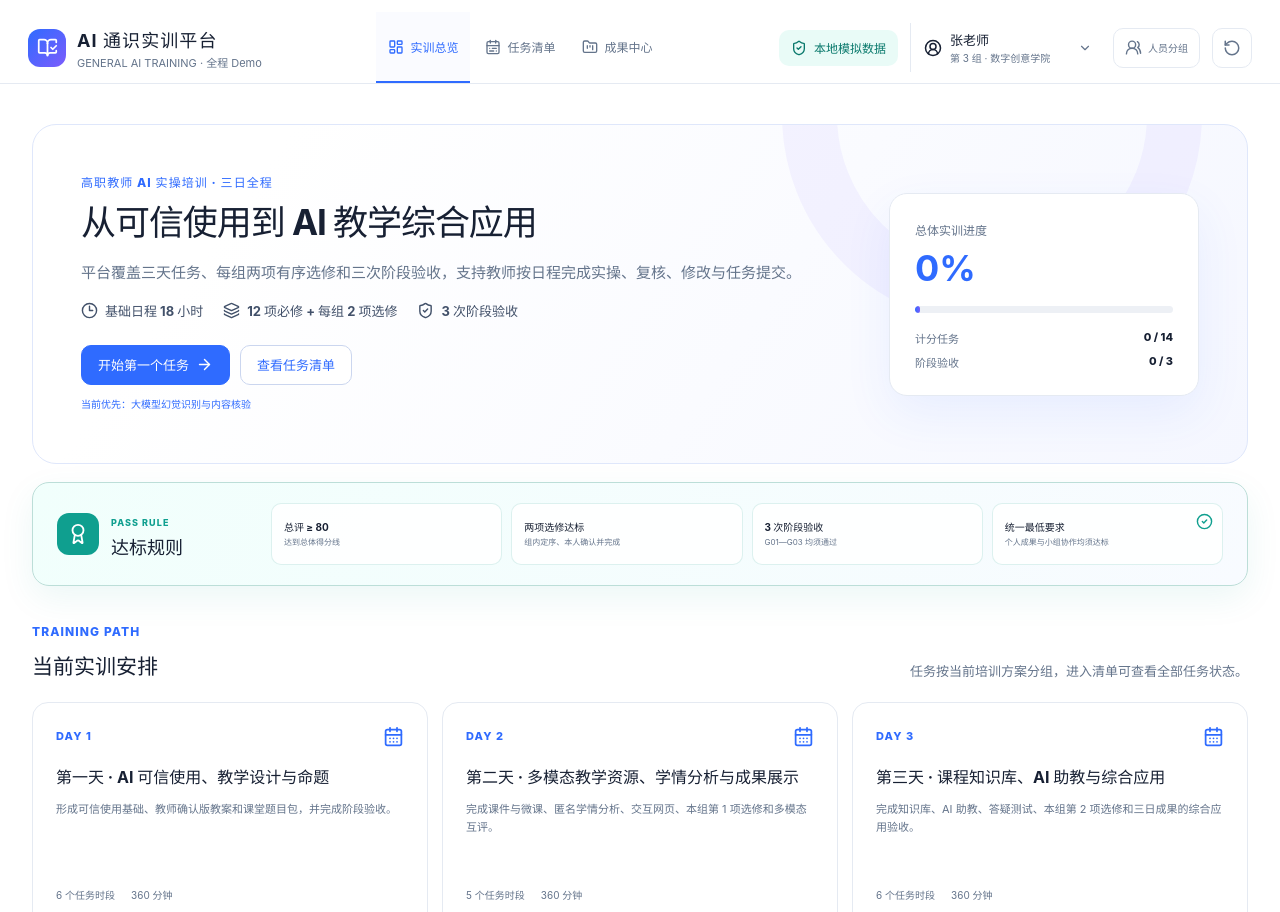
AI 通识实训平台 Demo 关键交互 › 培训人员页面可校验并确认导入基本信息与分组
Check: the button "培训人员" is not shown
What coordinates should you click on to do the following:
click the button with aria-label "查看教师与小组信息"
I would click on:
 (1006, 48)
Its box is [911,23,1101,72].
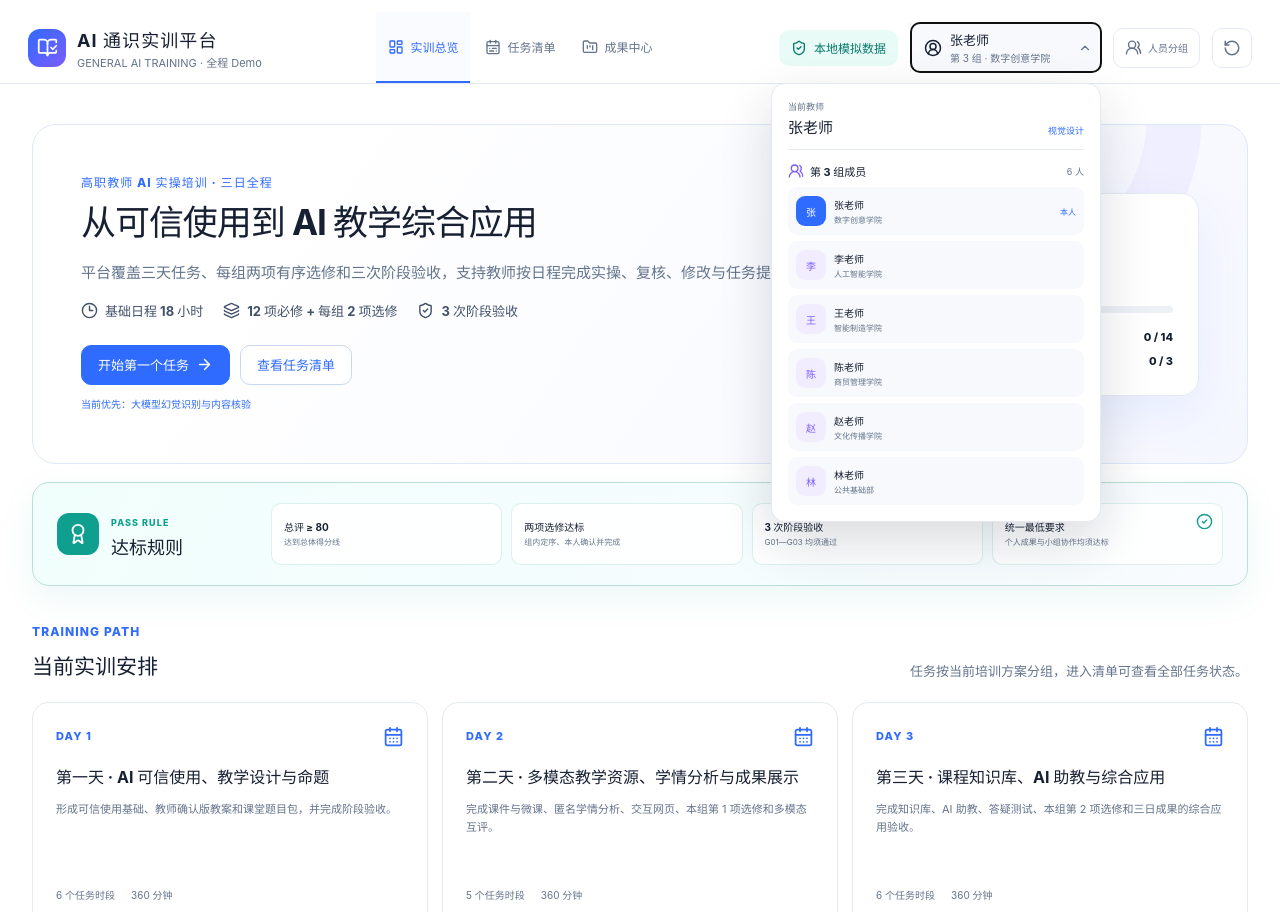
Check: the text "第 3 组成员" is shown, box [810,163,866,179]
Check: the text "6 人" is shown, box [1067,164,1084,178]
What coordinates should you click on to do the following:
click the button with aria-label "查看教师与小组信息"
I would click on:
 (1006, 48)
Its box is [911,23,1101,72].
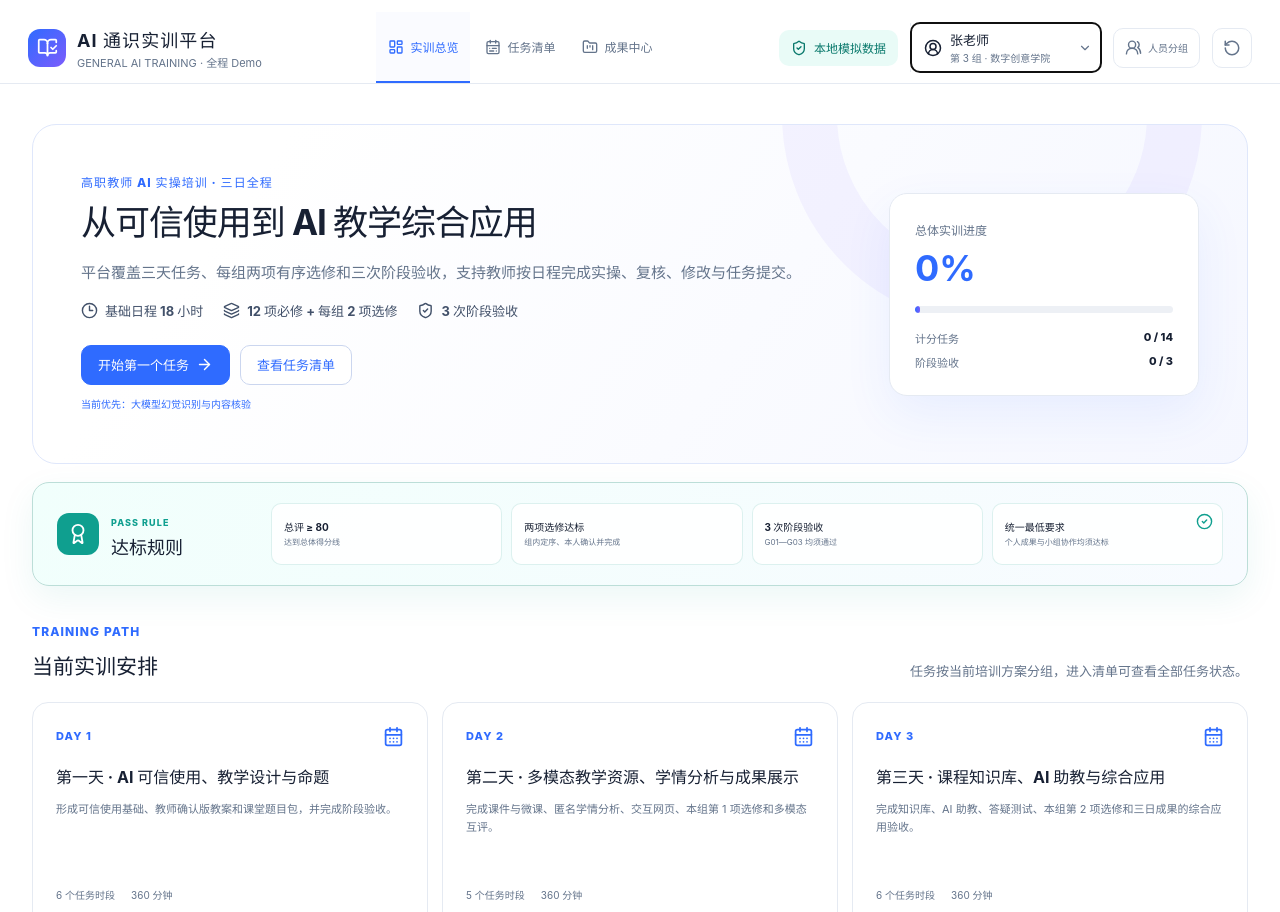
What coordinates should you click on to do the following:
click the button with aria-label "培训人员与分组"
I would click on:
 (1156, 48)
Its box is [1113,28,1200,68].
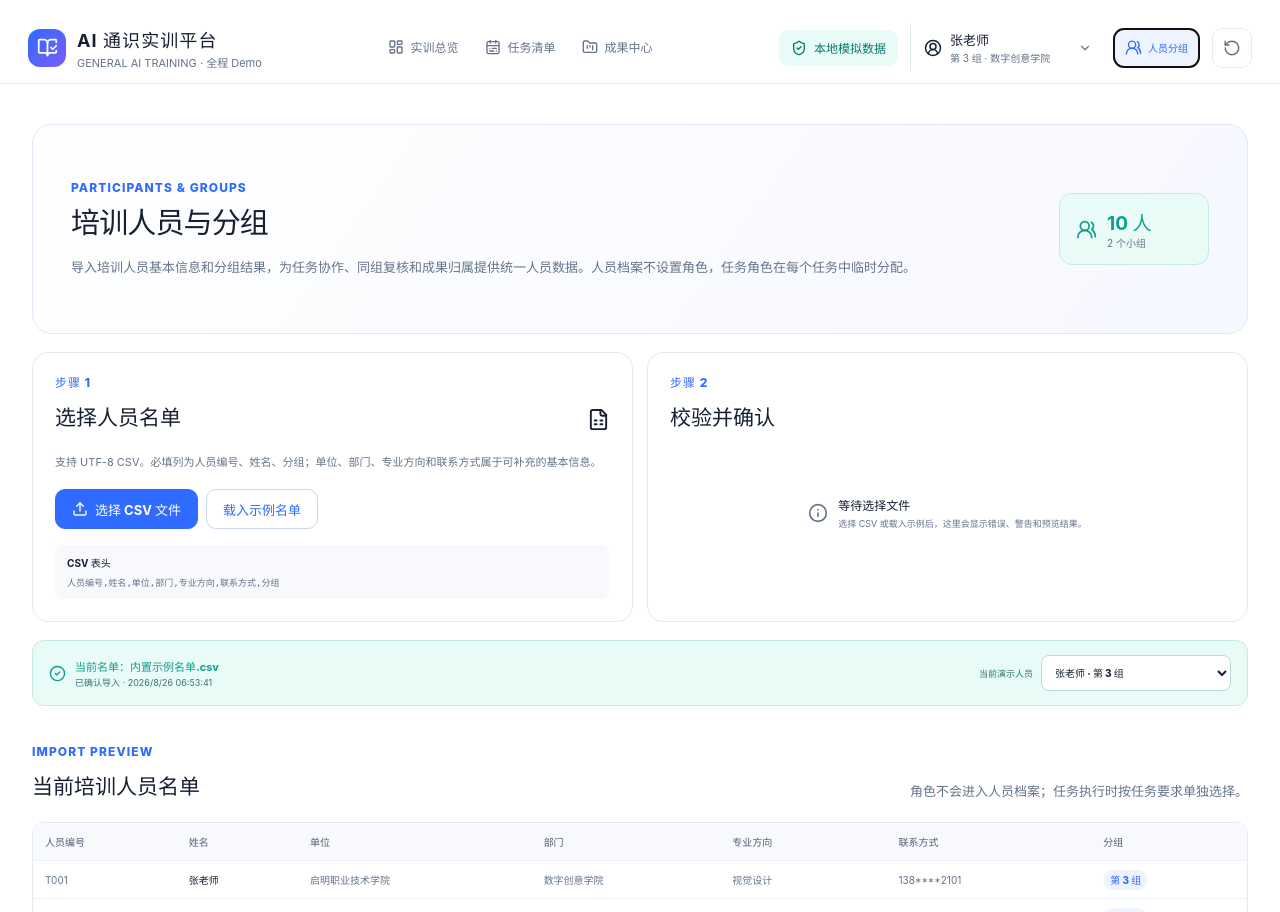
Check: the heading "培训人员与分组" is shown, box [71,205,268,240]
Check: the text "当前名单：内置示例名单.csv" is shown, box [75,658,219,674]
Check: the dropdown labelled "当前演示人员" shows "张老师 · 第 3 组", box [1041,656,1231,692]
What coordinates should you click on to do the following:
click the button "载入示例名单"
I would click on:
 (262, 510)
Its box is [206,490,318,530].
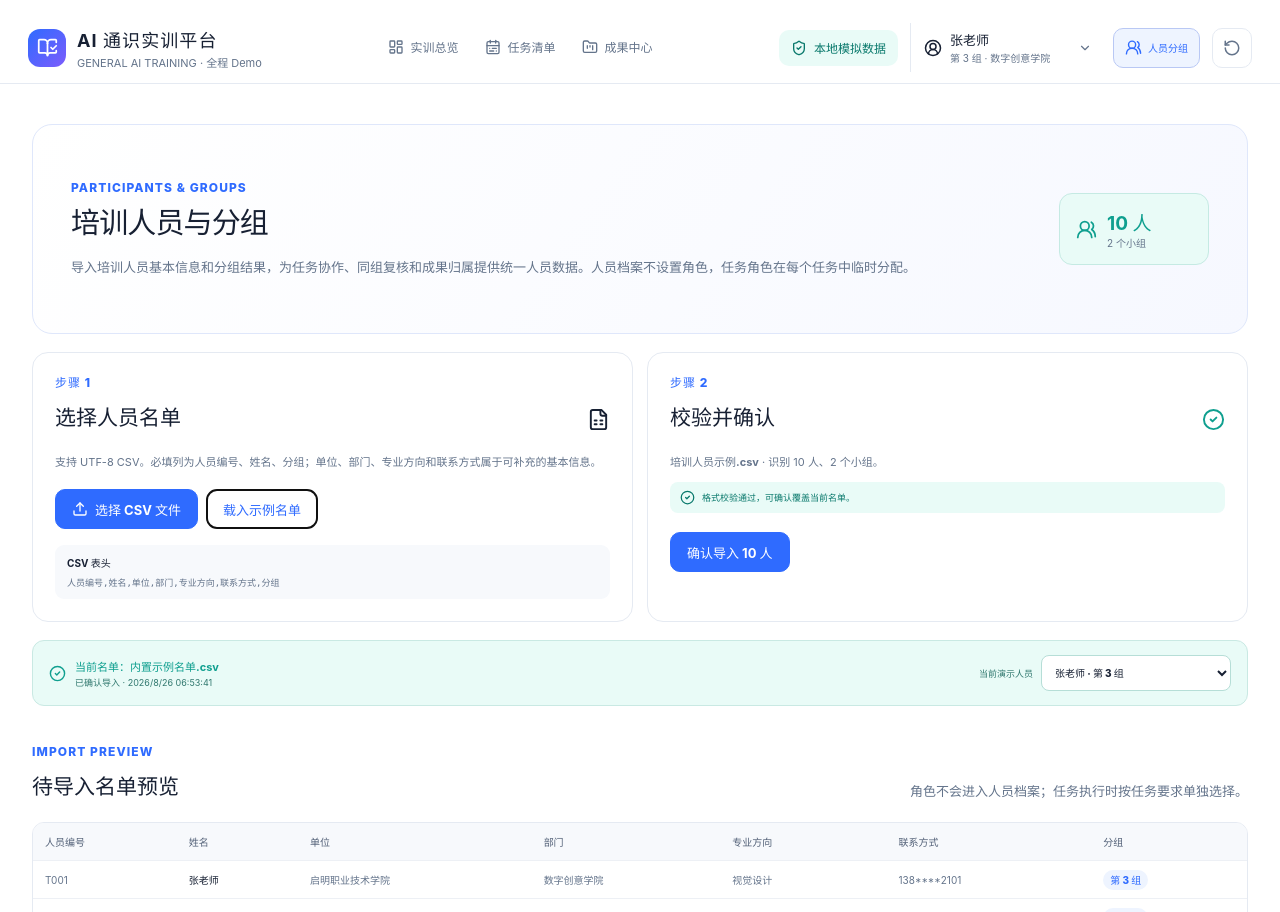
Check: the text "格式校验通过，可确认覆盖当前名单。" is shown, box [670,482,1225,514]
What coordinates should you click on to do the following:
click the button "确认导入 10 人"
I would click on:
 (730, 552)
Its box is [670,532,790,572].
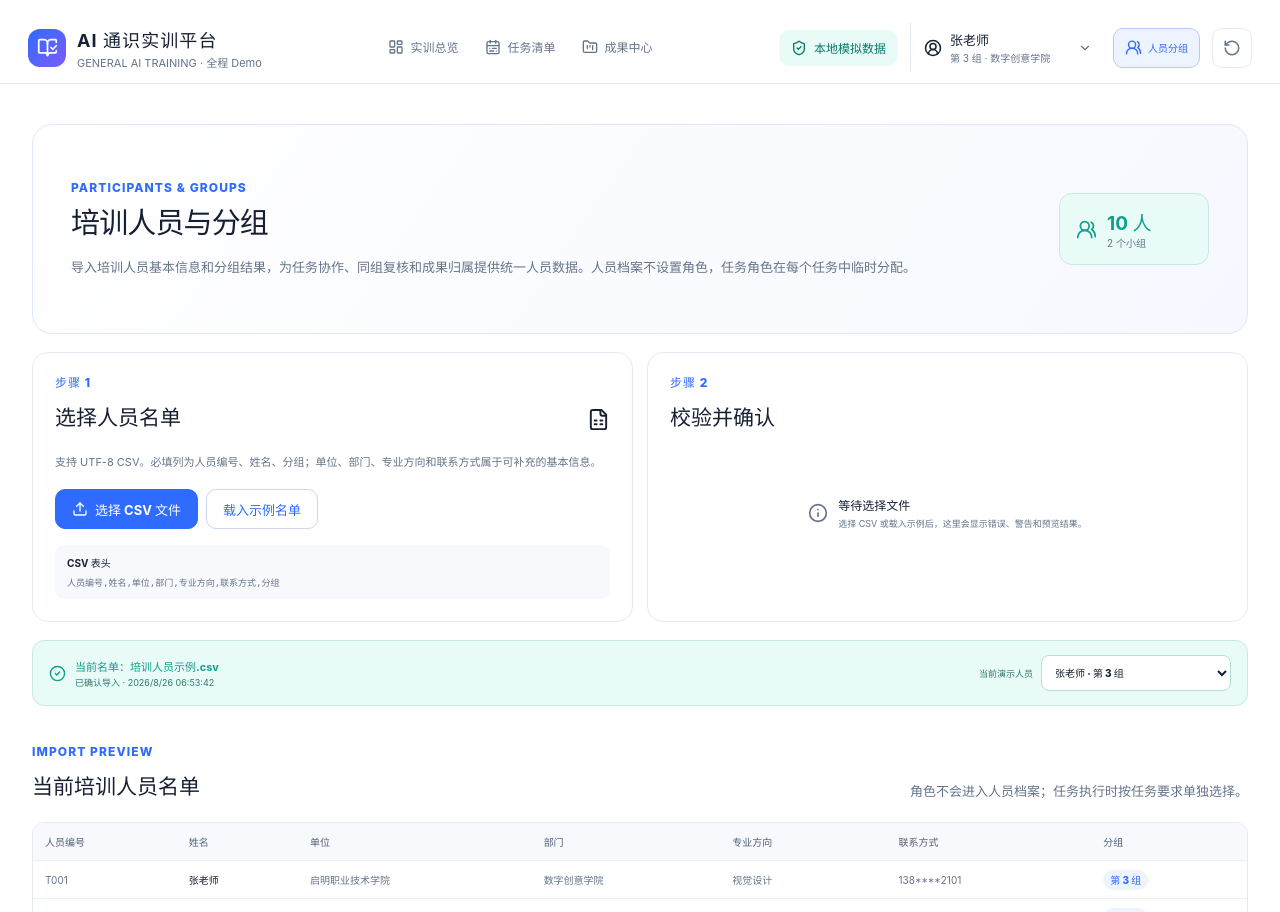
Check: the text "当前名单：培训人员示例.csv" is shown, box [75,658,219,674]
Check: the heading "当前培训人员名单" is shown, box [32,770,200,800]
